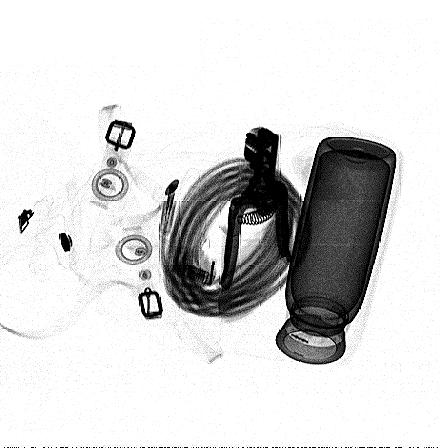Pliers: (219, 125, 294, 291)
